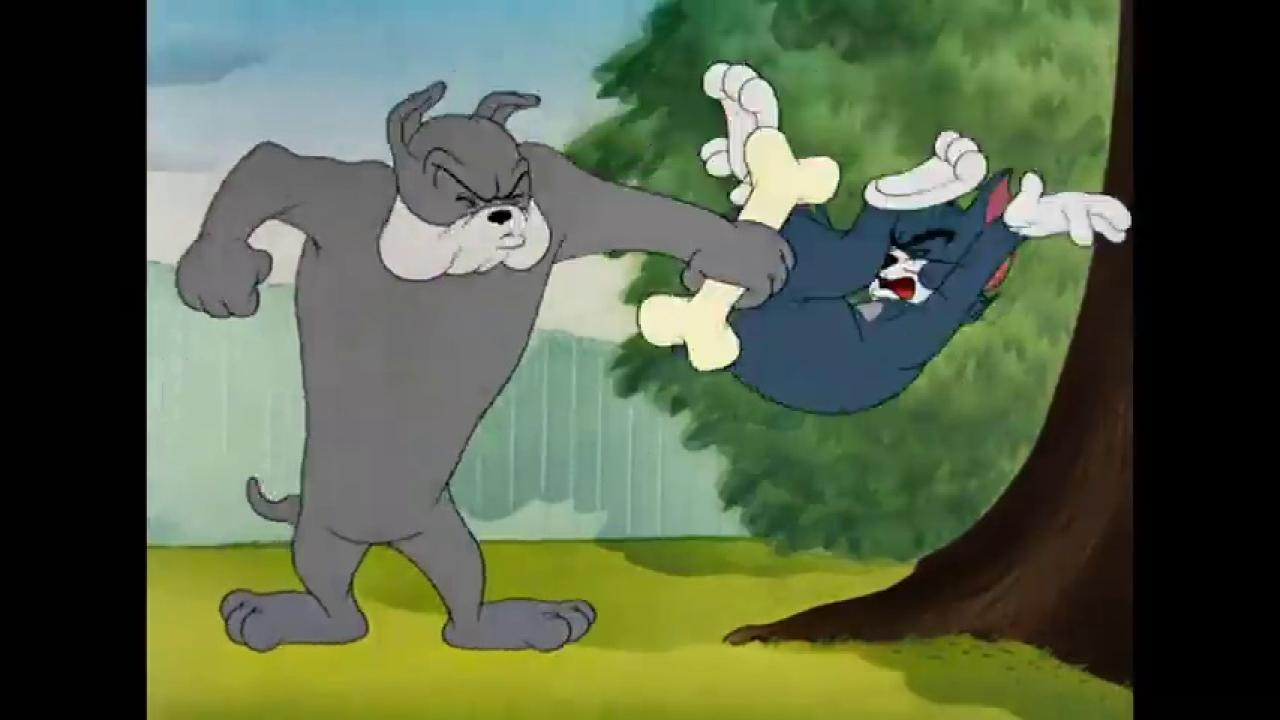Tom: (696, 57, 1131, 420)
